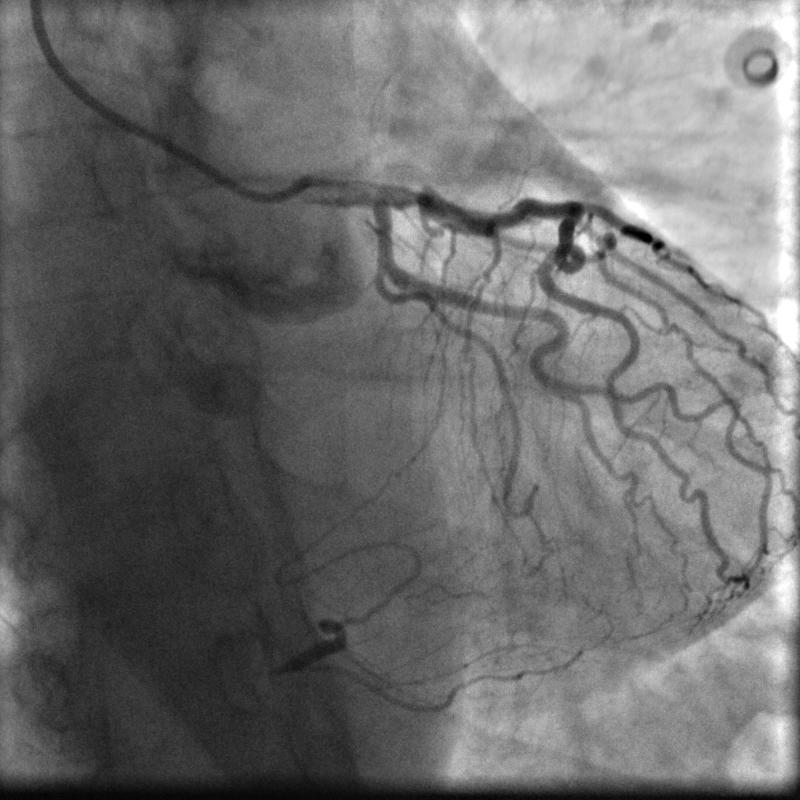Stenosis: (400, 179, 429, 216)
